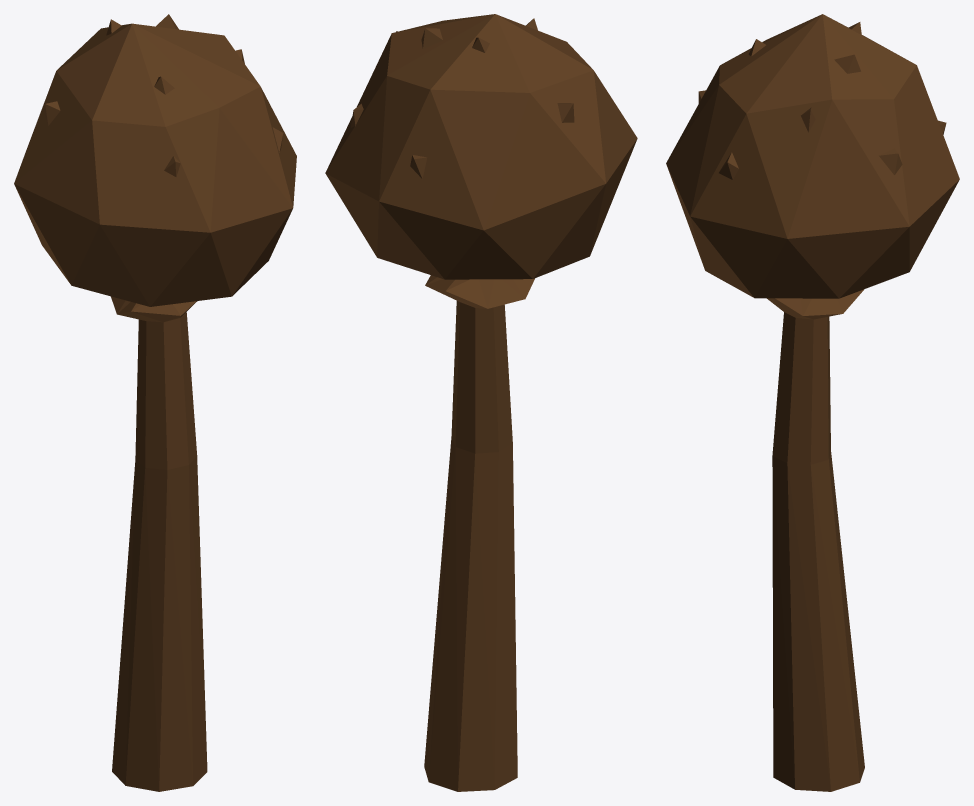
The model's file is SM_Mushroom_Fly_Agaric_Mature_A.fbx.
The picture shows the model from 3 angles, left to right: view 1: azimuth 30°, elevation 25°; view 2: azimuth 150°, elevation 25°; view 3: azimuth 270°, elevation 25°; orthographic projection. The views are drawn at different scales.
Parts seen in each view (by area): view 1: mushroom-fly-agaric-mature-a; view 2: mushroom-fly-agaric-mature-a; view 3: mushroom-fly-agaric-mature-a.
Part boxes in pixels (box(x1,y1,x2,y2)): mushroom-fly-agaric-mature-a: box(14, 14, 296, 791); mushroom-fly-agaric-mature-a: box(325, 14, 637, 791); mushroom-fly-agaric-mature-a: box(666, 14, 959, 791).
Bounding box in the file's own units: 0.1559 × 0.4307 × 0.1538.
